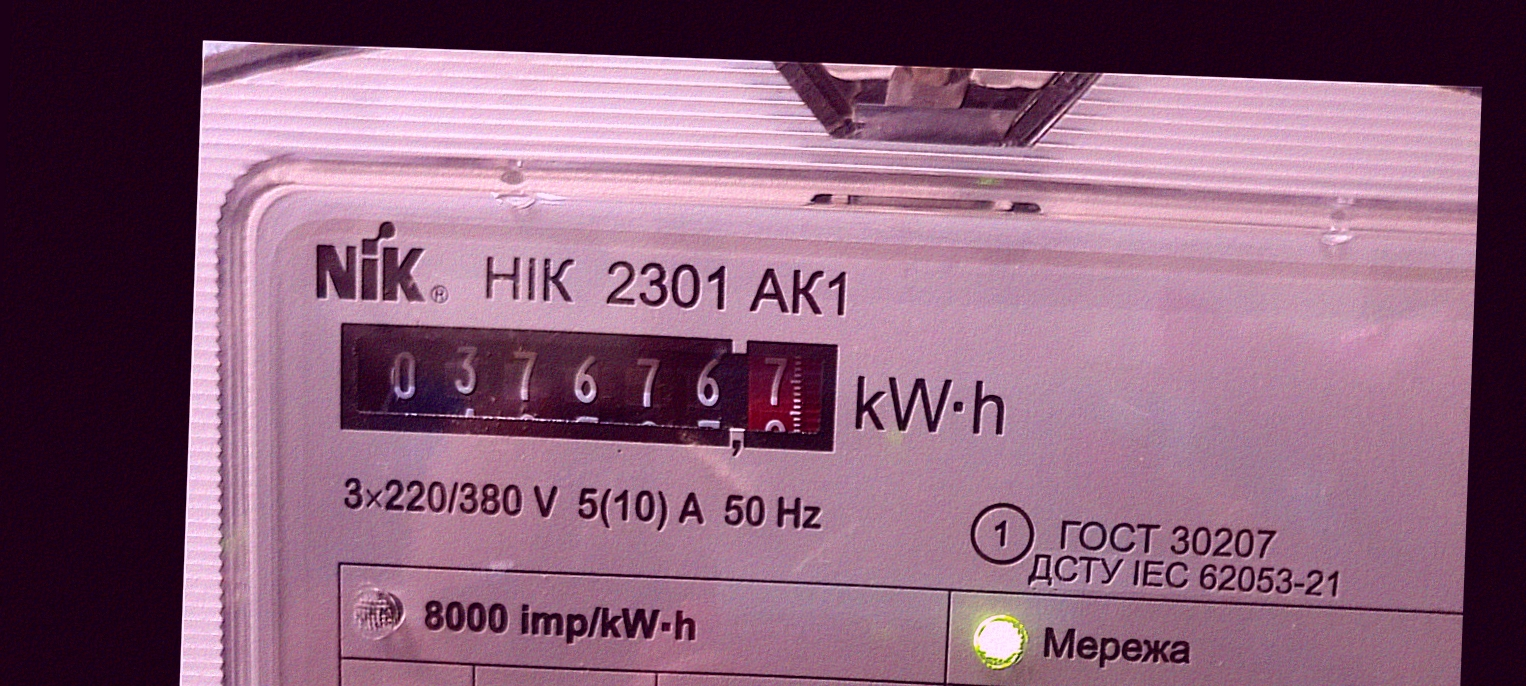0: (387, 346, 423, 403)
3: (451, 340, 480, 398)
6: (569, 350, 603, 405), (693, 354, 725, 410)
7: (631, 354, 664, 413), (508, 346, 541, 404), (761, 353, 790, 409)
screen: (322, 305, 855, 471)
